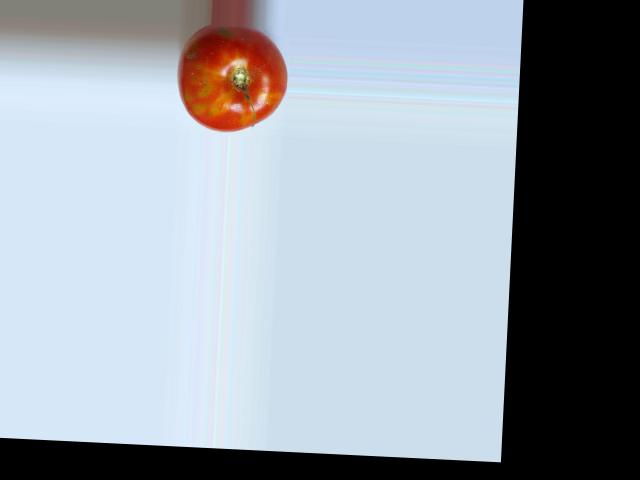tomato: (175, 22, 290, 134)
